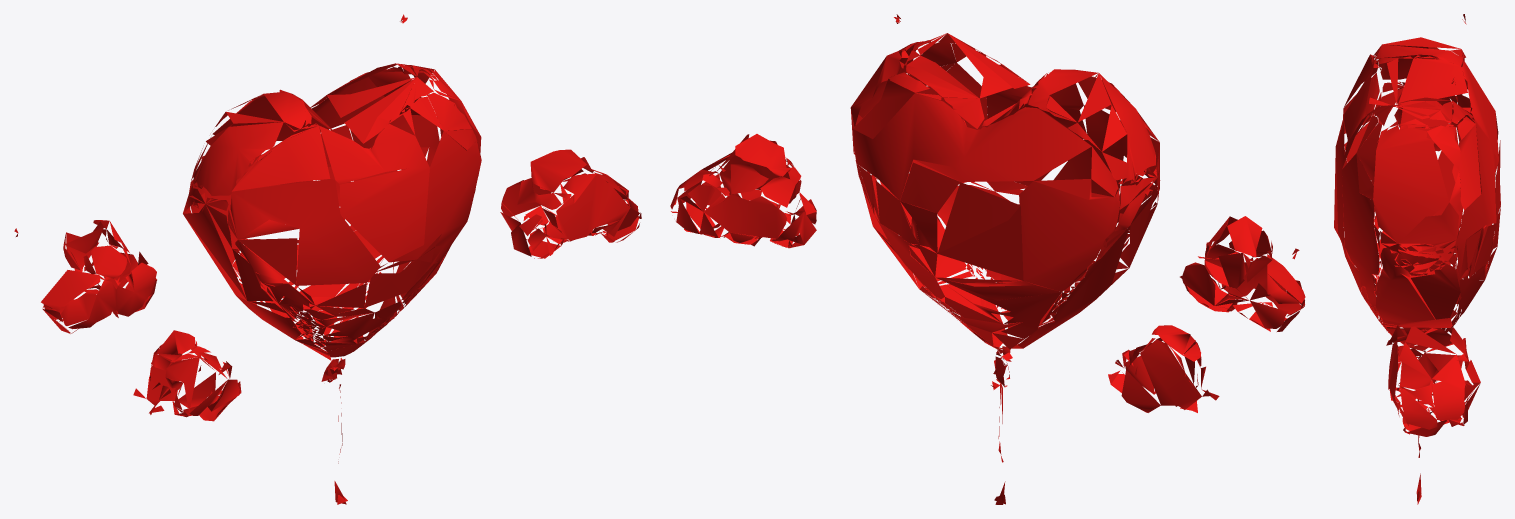
File: material_remove.glb
3 views of the same model, side by side, from view 1: azimuth 30°, elevation 25°; view 2: azimuth 150°, elevation 25°; view 3: azimuth 270°, elevation 25° (orthographic). The views are drawn at different scales.
Visible parts, largest first — view 1: Mesh_0; view 2: Mesh_0; view 3: Mesh_0.
Part boxes in pixels (bbox=[...]): Mesh_0: bbox=[14, 14, 641, 504]; Mesh_0: bbox=[670, 14, 1305, 504]; Mesh_0: bbox=[1334, 14, 1500, 504].
Bounding box in the file's own units: 2.05 × 1.49 × 0.4848.
